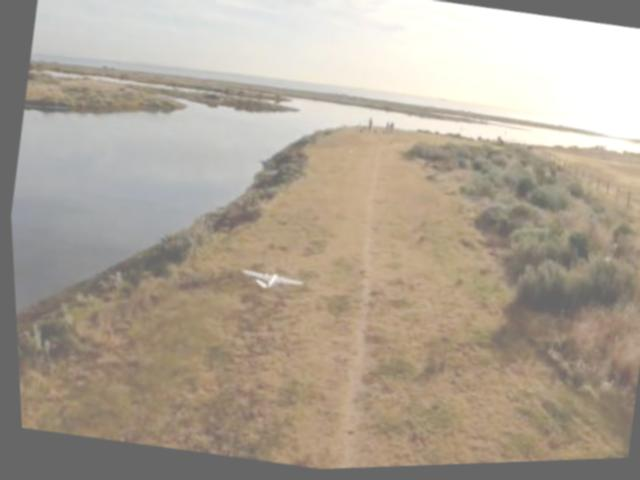uav: (234, 261, 302, 300)
